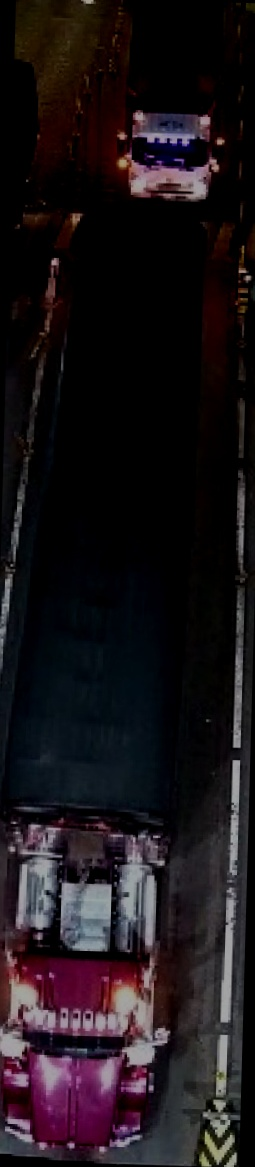truck: (0, 211, 216, 1156), (117, 3, 227, 209)
